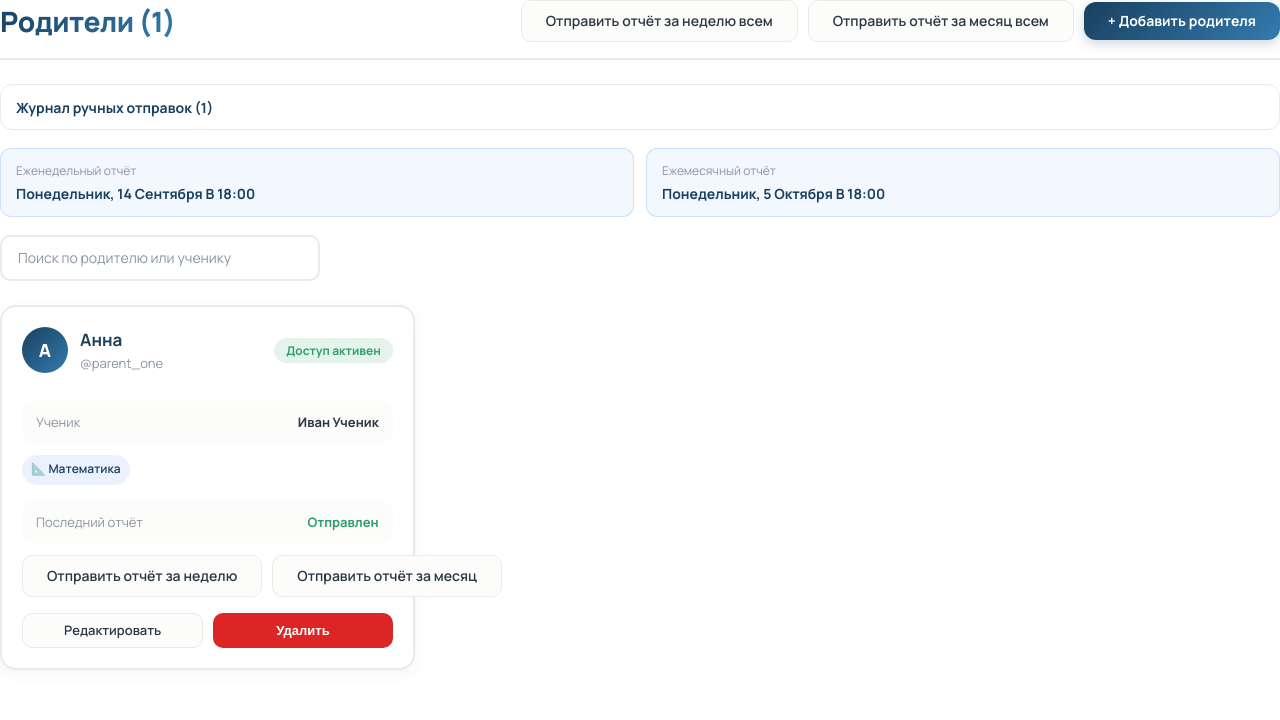
Scenario: менеджер просматривает и подтверждает недельный отчёт конкретного родителя
What coordinates should you click on to do the following:
click the button "Отправить отчёт за неделю"
I would click on:
 (142, 576)
Its box is [22,555,262,597].
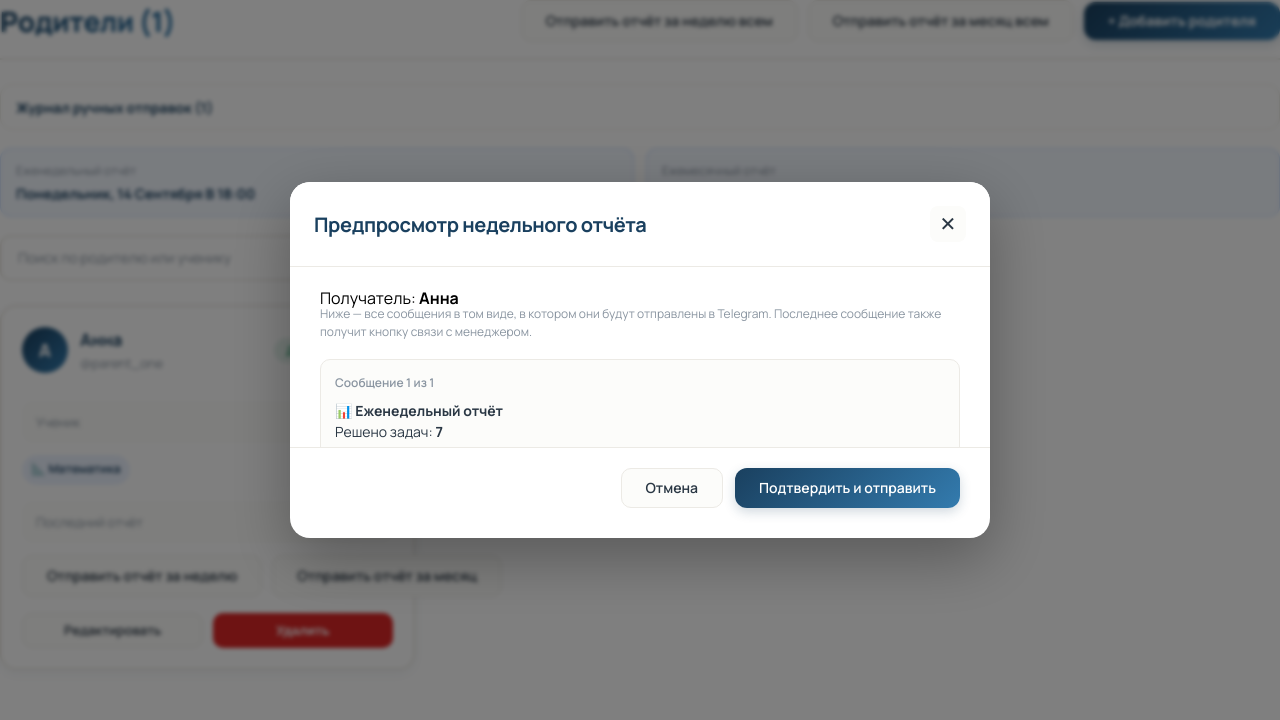
expect the dialog "Предпросмотр недельного отчёта" is shown: met, box [290,182,990,538]
expect the text "7" is shown: met, box [435,422,443,441]
What coordinates should you click on to do the following:
click the button "Подтвердить и отправить"
I would click on:
 (848, 488)
Its box is [735,468,960,508].
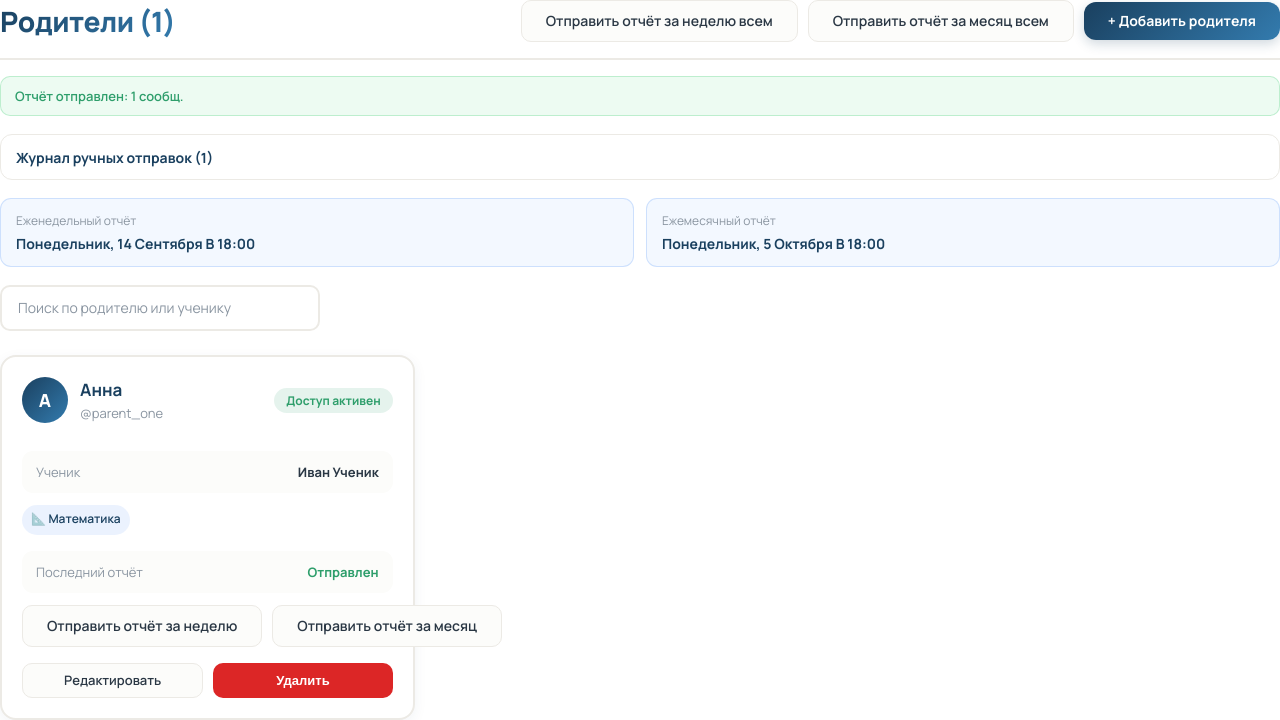
expect the text "Отчёт отправлен: 1 сообщ." is shown: met, box [0,76,1279,116]
